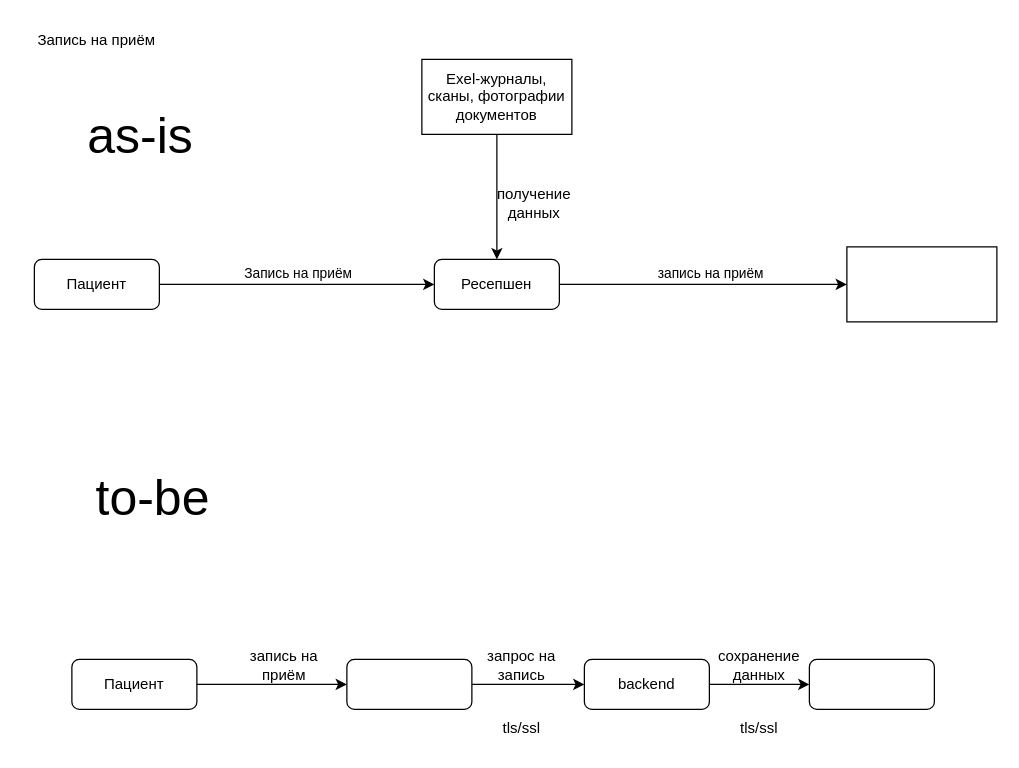
The diagram is 1019 pixels wide and 768 high, and some of its shapes have lost their labels. Each missing label, with the box of its shape:
db: (808, 658, 934, 709)
Web-app: (346, 658, 472, 709)
Запись в медицинский exel-журнал: (846, 246, 997, 322)
